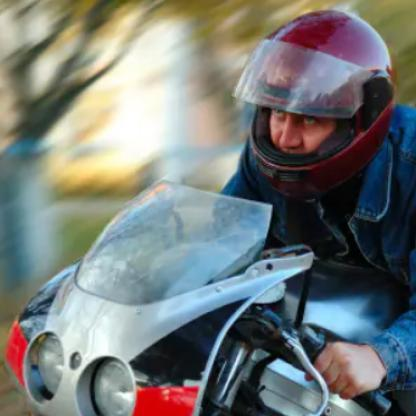helmet: (231, 9, 396, 203)
